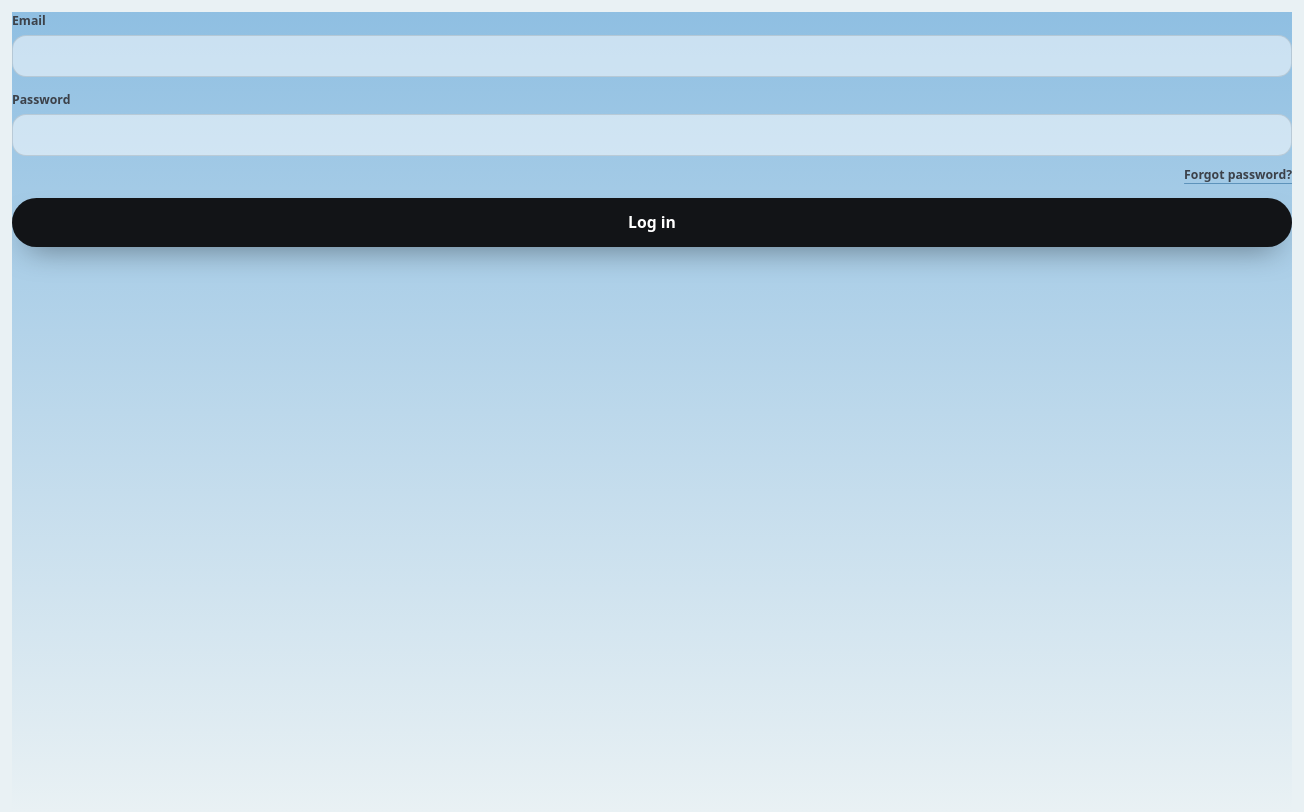
Scenario: LoginForm › shows the server message for a wrong password
Type "demo@tripwise.app" into the field labelled "Email" at (652, 56), box x1=12 y1=35 x2=1292 y2=77
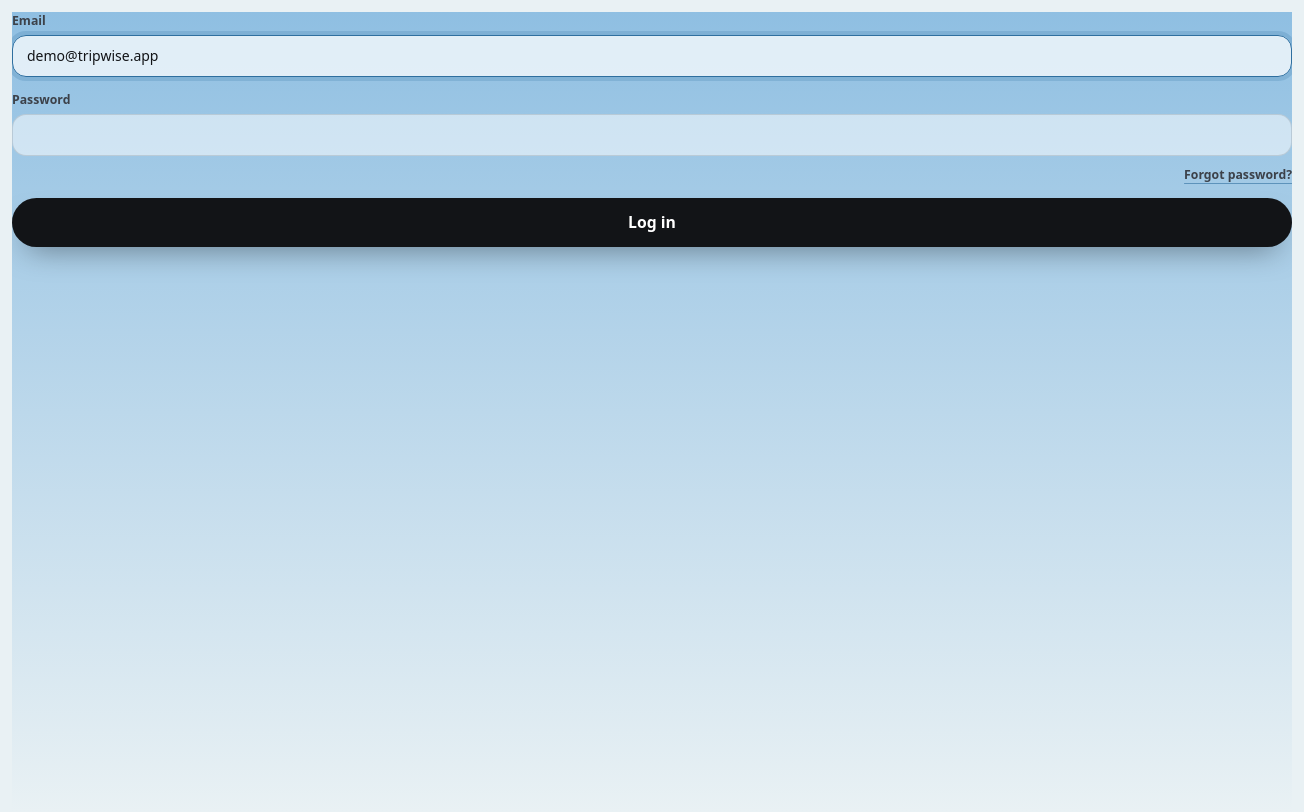
Type "wrong-password" into the password field labelled "Password" at (652, 134), box x1=12 y1=114 x2=1292 y2=156
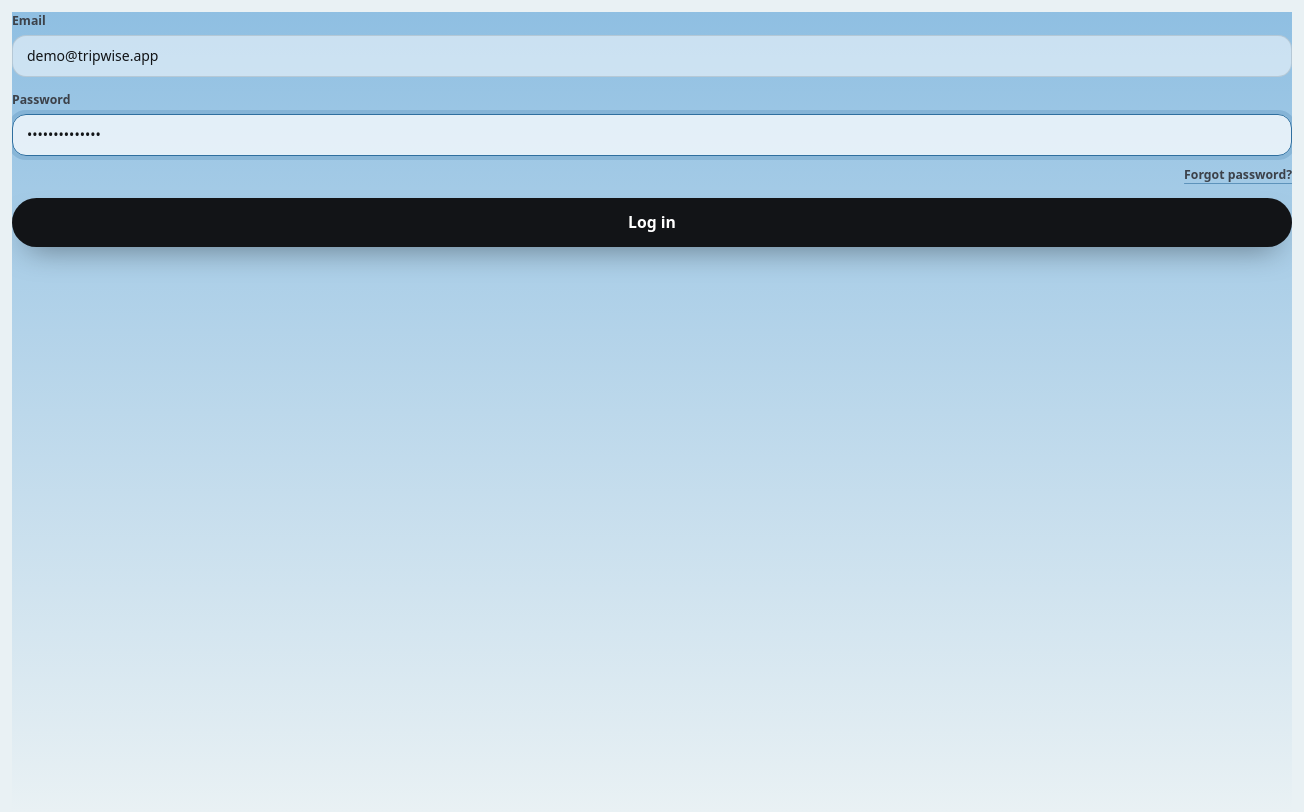
Click the button "Log in" at (652, 222), box x1=12 y1=198 x2=1292 y2=246
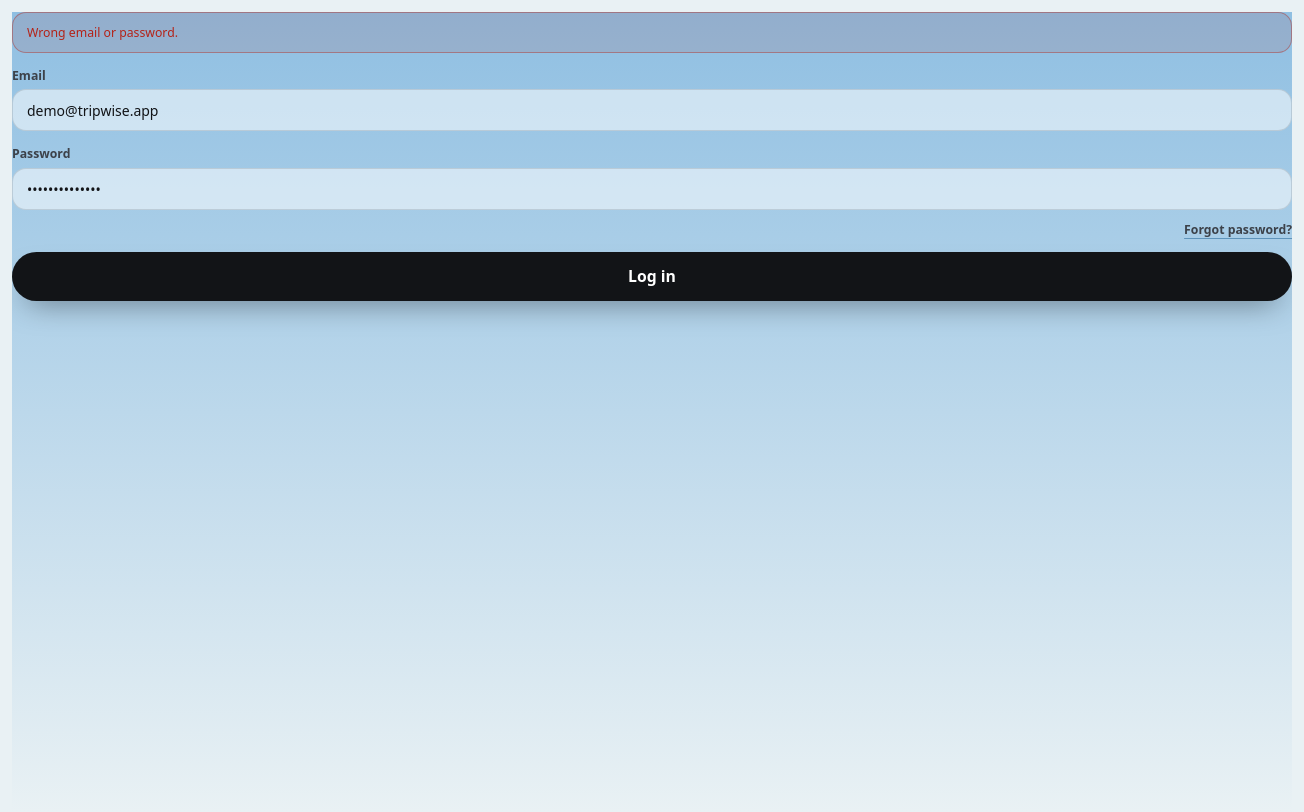
Expected: the message reads "Wrong email or password.", x1=27 y1=24 x2=178 y2=40
